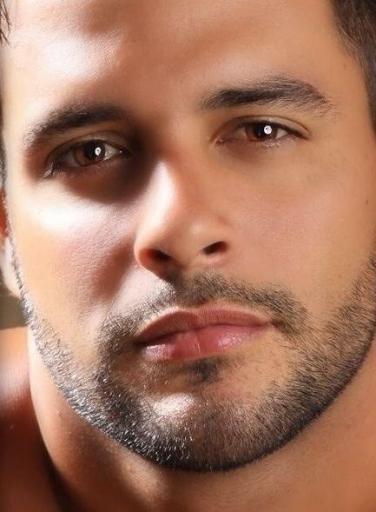left_eye: (213, 115, 310, 153)
left_lip_corner: (252, 311, 284, 344)
right_eye: (46, 134, 133, 173)
right_lip_corner: (126, 329, 149, 360)
